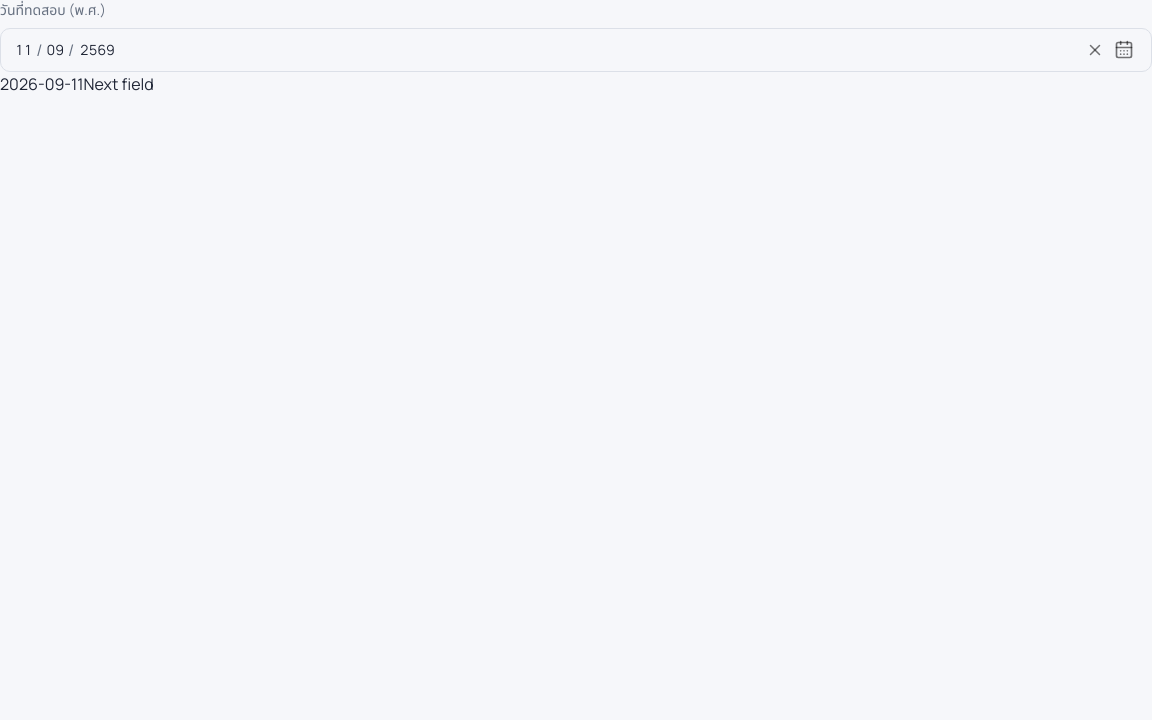
Test case: Buddhist picker behavior › requires mobile confirmation and discards cancelled selections
The width and height of the screenshot is (1152, 720).
What coordinates should you click on to do the following:
click the button named "เปิดวันที่ทดสอบ"
I would click on:
 (1124, 50)
Its box is [1109,35,1139,65].
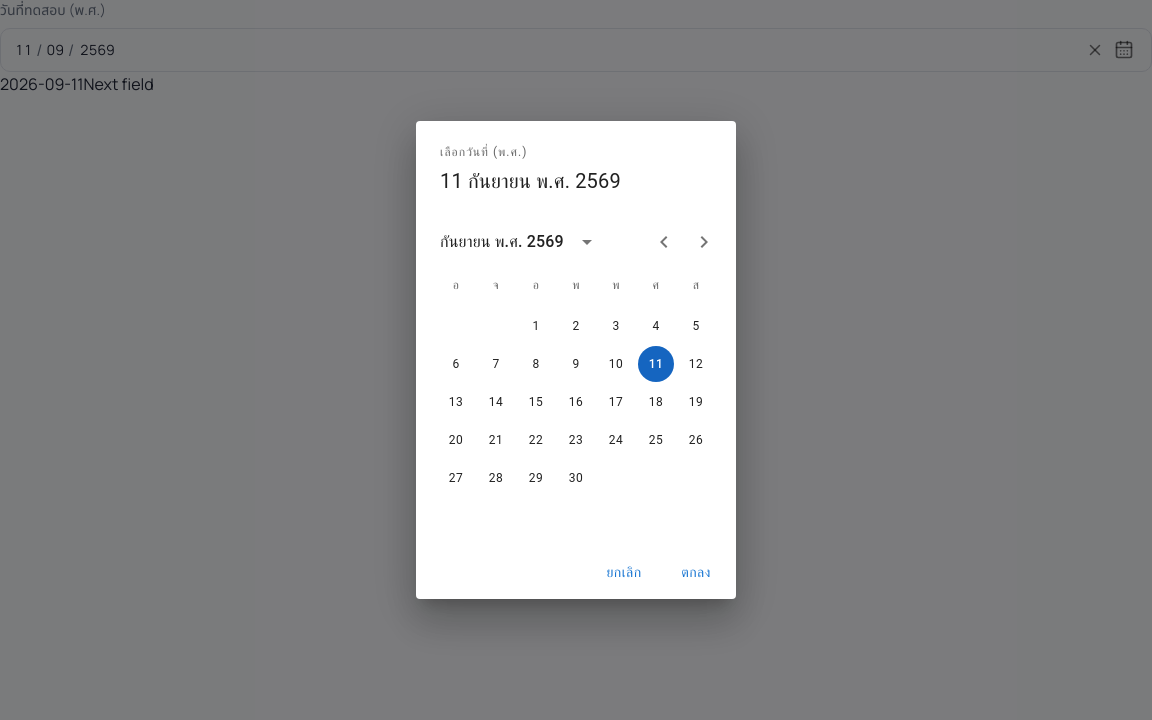
Expected: the heading "11 กันยายน พ.ศ. 2569" is shown, [440,169,621,194]
What coordinates should you click on to do the following:
click the cell "15"
I would click on:
 (536, 402)
Its box is [518,384,554,420].
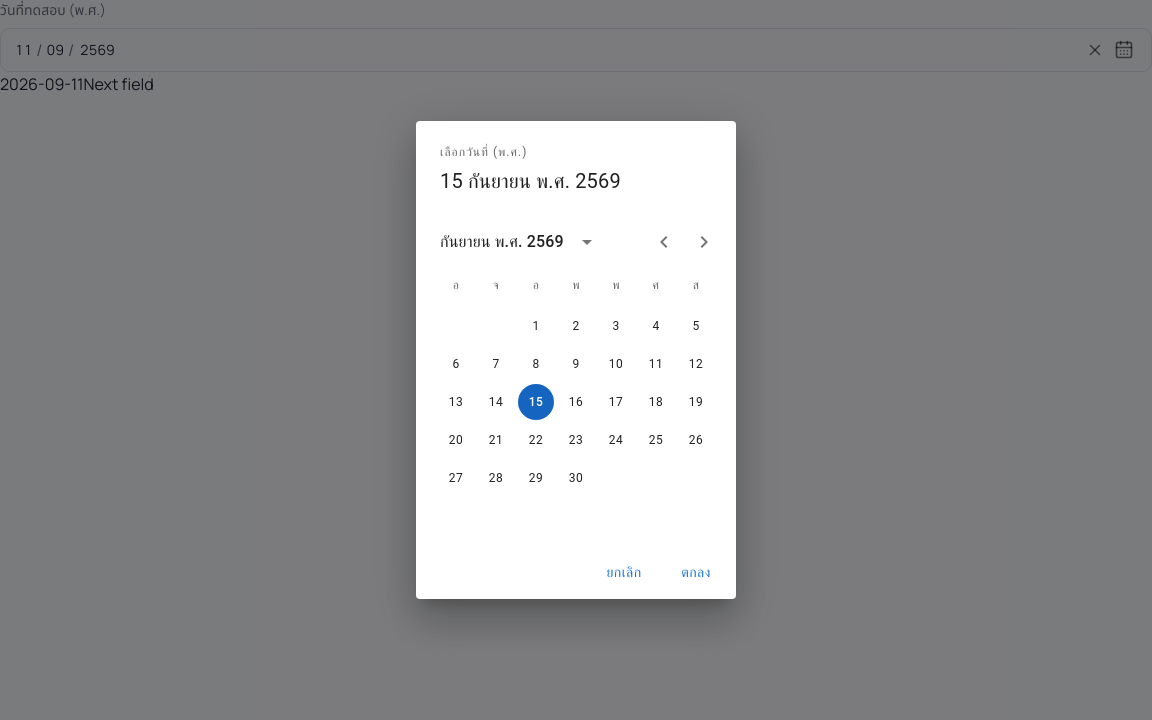
What coordinates should you click on to do the following:
click the button "ยกเลิก"
I would click on:
 (624, 572)
Its box is [592,554,656,590].
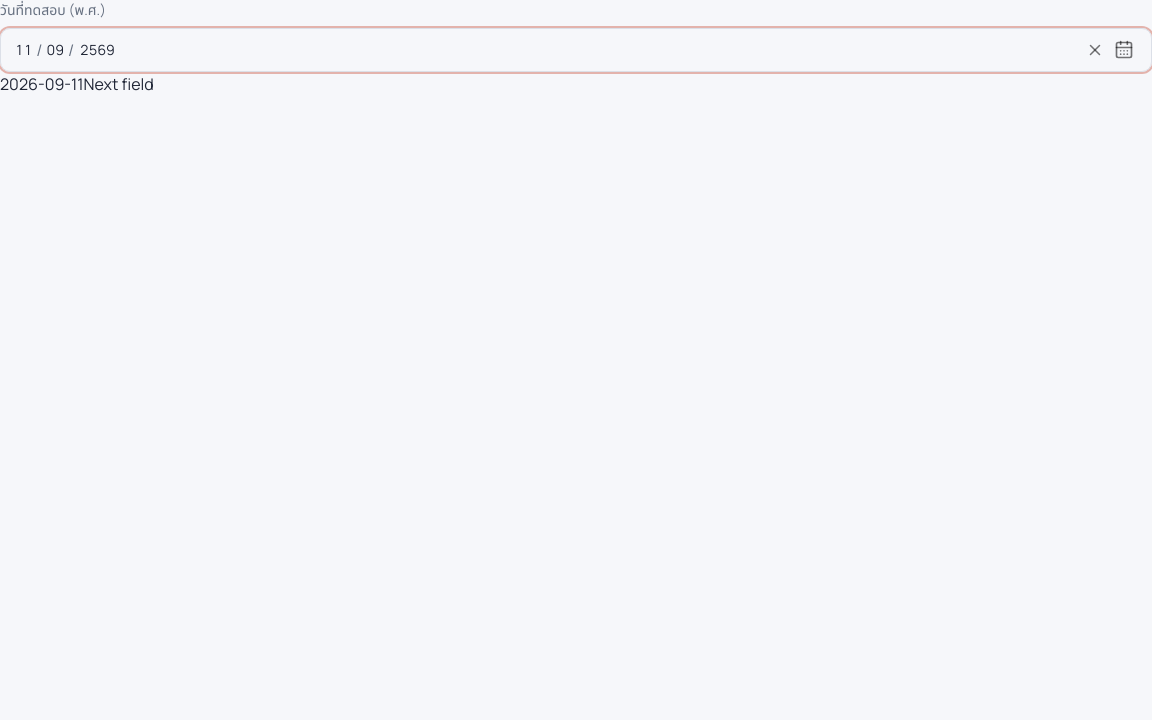
Expected: the text with test id "value" reads "2026-09-11", [0,73,84,95]
Expected: the dialog is gone
What coordinates should you click on to do the following:
click the button named "เปิดวันที่ทดสอบ"
I would click on:
 (1124, 50)
Its box is [1109,35,1139,65].
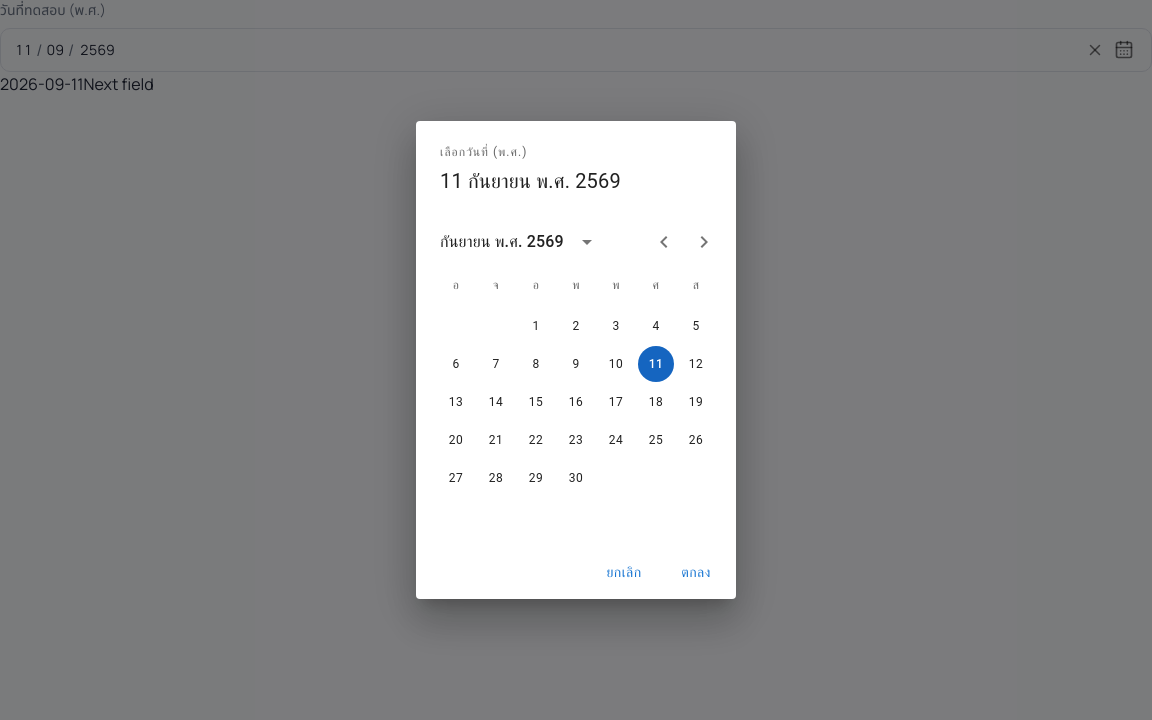
What coordinates should you click on to do the following:
click the cell "20"
I would click on:
 (456, 440)
Its box is [438,422,474,458].
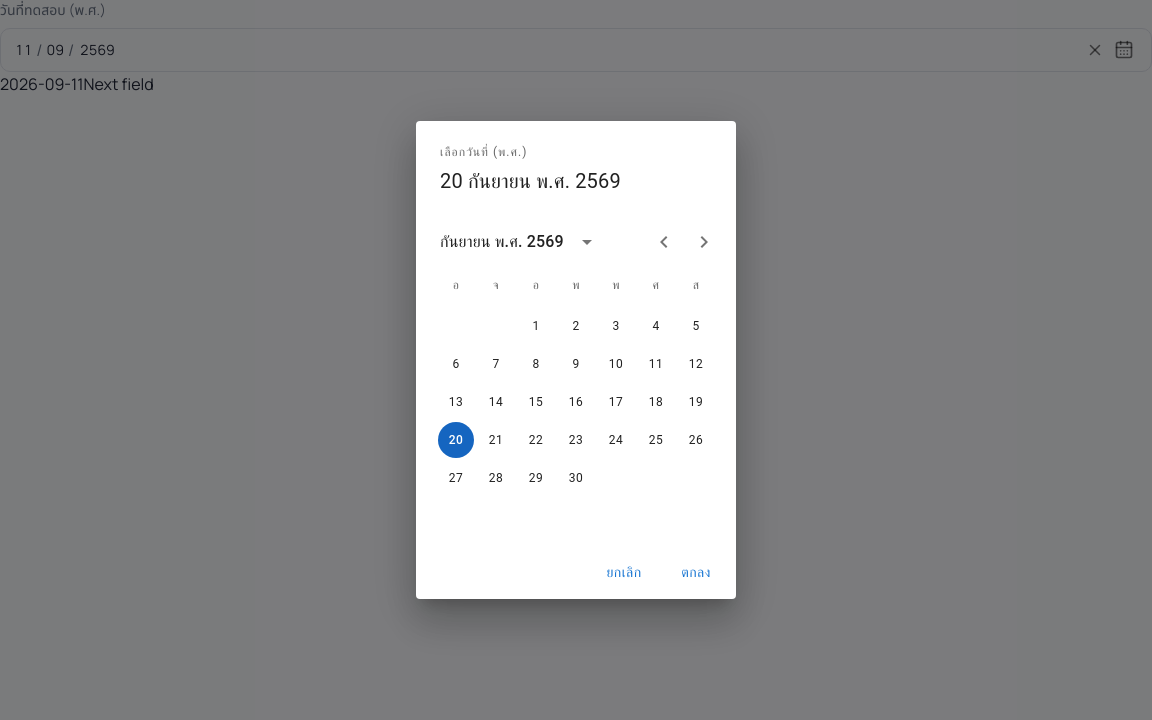
What coordinates should you click on to do the following:
click the button "ตกลง"
I would click on:
 (696, 572)
Its box is [664,554,728,590].
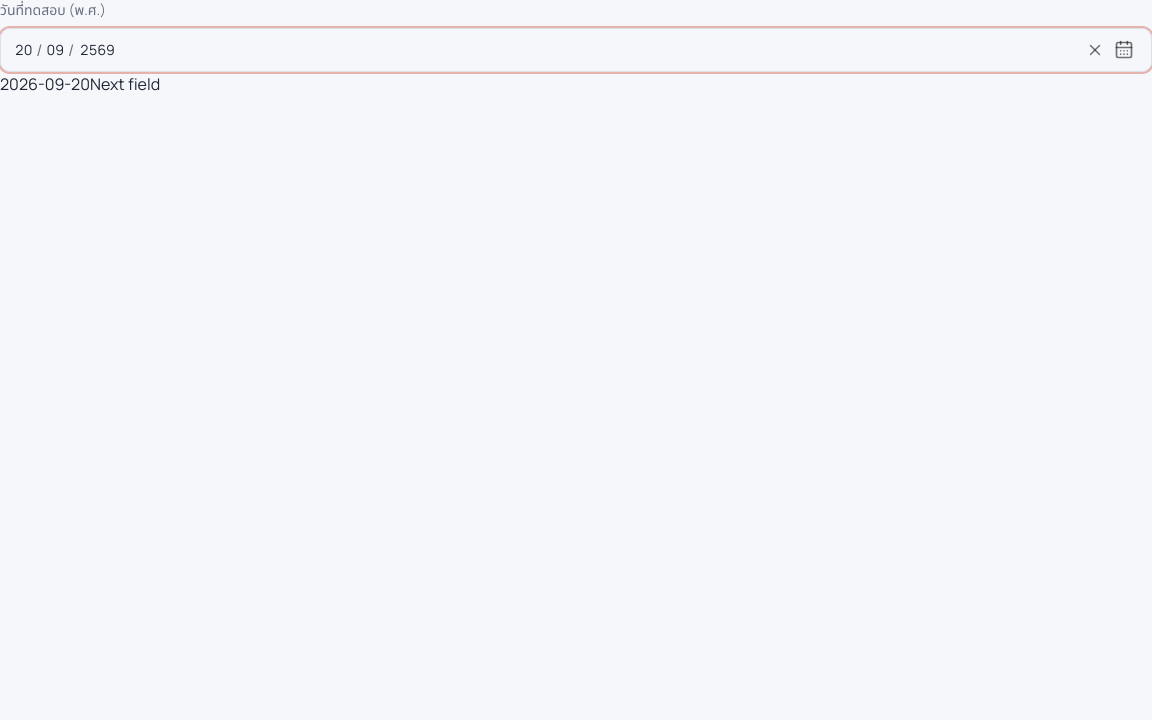
Expected: the dialog is gone
